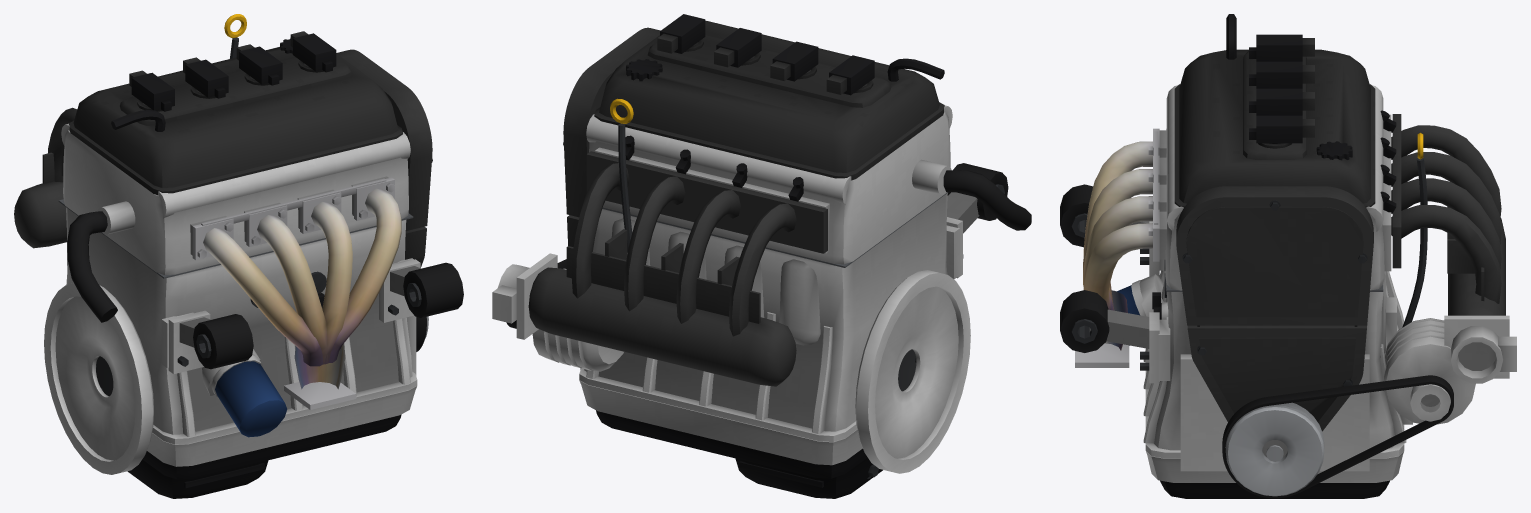
The model's file is engine-lo-v2.glb.
3 renders of one model, left to right at view 1: azimuth 30°, elevation 25°; view 2: azimuth 150°, elevation 25°; view 3: azimuth 270°, elevation 25°, orthographic. The views are drawn at different scales.
Visible parts, largest first — view 1: valve_cover_geo, block_geo, exhaust_manifold_geo, head_geo, flywheel_geo, oil_pan_geo, timing_cover_geo, mount_rear_geo, intake_manifold_geo, mount_front_geo, oil_filter_geo, coolant_hose_geo (+7 smaller); view 2: intake_manifold_geo, block_geo, valve_cover_geo, head_geo, flywheel_geo, oil_pan_geo, timing_cover_geo, coolant_hose_geo, alternator_geo, mount_rear_geo, coil_3_geo, coil_1_geo (+3 smaller); view 3: timing_cover_geo, valve_cover_geo, intake_manifold_geo, block_geo, exhaust_manifold_geo, crank_pulley_geo, alternator_geo, head_geo, oil_pan_geo, mount_front_geo, accessory_belt_geo, mount_rear_geo (+6 smaller).
Boxes of the visible parts, left/top/right/bottom form: valve_cover_geo: left=69, top=38, right=402, bottom=195; block_geo: left=66, top=207, right=417, bottom=444; exhaust_manifold_geo: left=192, top=177, right=401, bottom=409; head_geo: left=61, top=123, right=410, bottom=274; flywheel_geo: left=44, top=283, right=153, bottom=474; oil_pan_geo: left=127, top=386, right=416, bottom=498; timing_cover_geo: left=336, top=49, right=432, bottom=267; mount_rear_geo: left=168, top=310, right=253, bottom=374; intake_manifold_geo: left=14, top=107, right=77, bottom=248; mount_front_geo: left=379, top=259, right=463, bottom=322; oil_filter_geo: left=211, top=355, right=287, bottom=437; coolant_hose_geo: left=67, top=211, right=117, bottom=322; intake_manifold_geo: left=492, top=151, right=827, bottom=386; block_geo: left=579, top=193, right=959, bottom=441; valve_cover_geo: left=594, top=20, right=944, bottom=180; head_geo: left=586, top=105, right=952, bottom=264; flywheel_geo: left=855, top=270, right=970, bottom=473; oil_pan_geo: left=579, top=380, right=882, bottom=498; timing_cover_geo: left=563, top=27, right=660, bottom=247; coolant_hose_geo: left=943, top=170, right=1031, bottom=230; alternator_geo: left=532, top=268, right=623, bottom=371; mount_rear_geo: left=946, top=163, right=1008, bottom=278; coil_3_geo: left=770, top=41, right=818, bottom=81; coil_1_geo: left=657, top=14, right=705, bottom=53; timing_cover_geo: left=1176, top=186, right=1373, bottom=431; valve_cover_geo: left=1174, top=14, right=1375, bottom=207; intake_manifold_geo: left=1391, top=114, right=1516, bottom=383; block_geo: left=1139, top=259, right=1406, bottom=471; exhaust_manifold_geo: left=1075, top=128, right=1159, bottom=367; crank_pulley_geo: left=1225, top=402, right=1324, bottom=496; alternator_geo: left=1384, top=318, right=1475, bottom=424; head_geo: left=1159, top=85, right=1391, bottom=290; oil_pan_geo: left=1146, top=451, right=1403, bottom=498; mount_front_geo: left=1060, top=290, right=1159, bottom=383; accessory_belt_geo: left=1222, top=375, right=1453, bottom=498; mount_rear_geo: left=1060, top=184, right=1159, bottom=276.
Size of the model in its own units: 0.6079 by 0.596 by 0.629.
Materials: 19 (6 with a texture image).
